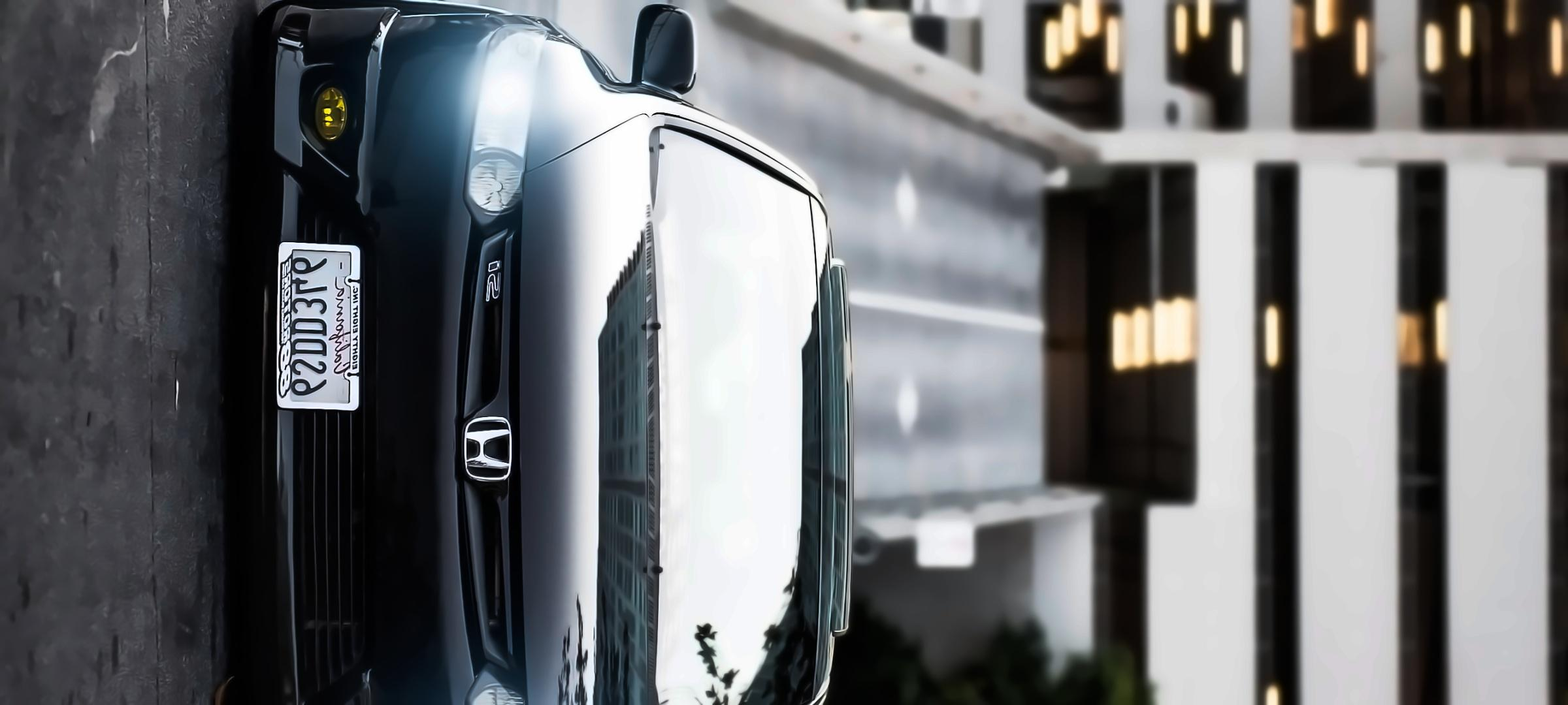Car hood: (516, 107, 663, 705)
Front bumper: (231, 0, 489, 705)
Headlight - -R-: (446, 16, 559, 222)
Side mirror - -R-: (626, 0, 700, 102)
